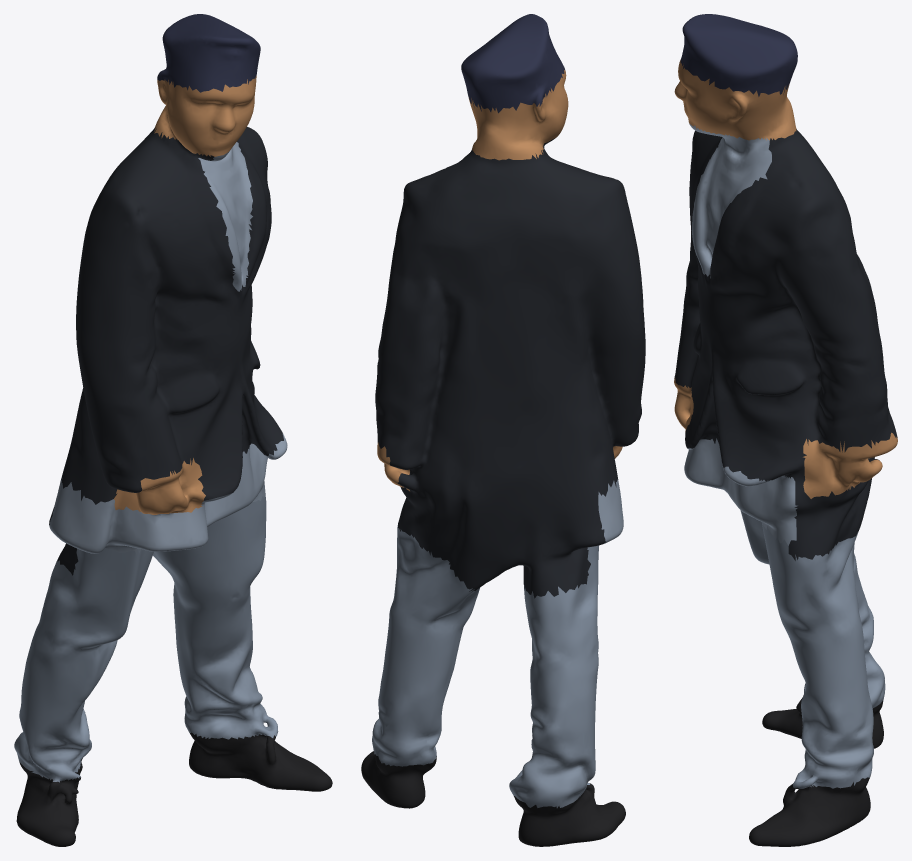
The model's file is nepali_man.glb.
The picture shows the model from 3 angles, left to right: view 1: azimuth 30°, elevation 25°; view 2: azimuth 150°, elevation 25°; view 3: azimuth 270°, elevation 25°; orthographic projection. The views are drawn at different scales.
Visible parts, largest first — view 1: coat, suruwal, daura, jutta, dhaka_topi, head, hands; view 2: coat, suruwal, dhaka_topi, jutta, head, daura, hands; view 3: coat, suruwal, daura, dhaka_topi, jutta, head, hands.
Part boxes in pixels (x1,y1,x2,y2): coat: (49, 127, 283, 575); suruwal: (14, 491, 278, 782); daura: (49, 142, 287, 554); jutta: (16, 732, 332, 846); dhaka_topi: (157, 14, 260, 92); head: (154, 75, 256, 156); hands: (114, 458, 205, 514); coat: (375, 137, 645, 598); suruwal: (372, 525, 599, 808); dhaka_topi: (461, 14, 564, 113); jutta: (361, 751, 625, 846); head: (468, 70, 568, 160); daura: (598, 479, 623, 543); hands: (377, 442, 622, 491); coat: (674, 129, 897, 560); suruwal: (740, 510, 885, 788); daura: (684, 123, 797, 545); dhaka_topi: (680, 14, 797, 96); jutta: (749, 695, 883, 846); head: (674, 59, 796, 140); hands: (674, 377, 897, 498).
Size of the model in its own units: 0.6204 by 1.7 by 0.4507.
